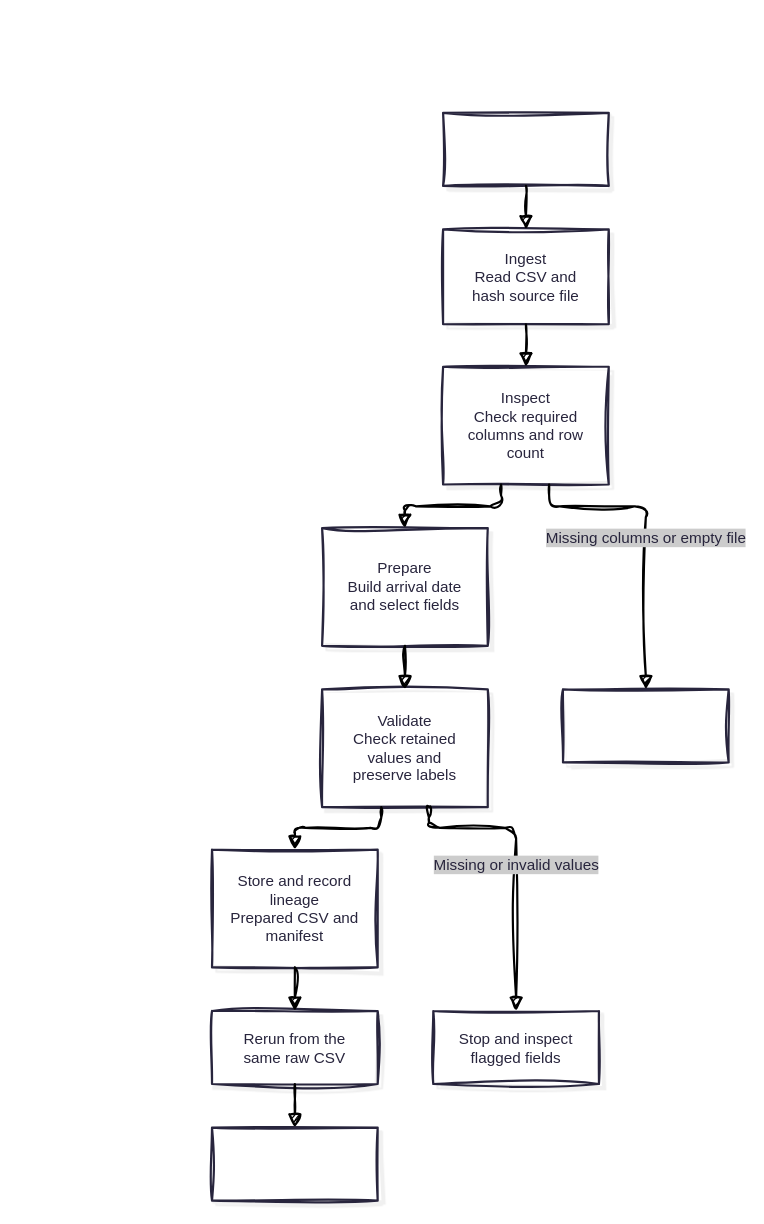
The diagram is 764 pixels wide and 1224 high, and some of its shapes have lost their labels. Each missing label, with the centre of its shape:
Compare output checksums: the point at 296,1166
Hotel Booking Demand CSV: the point at 527,151
Stop and check source file: the point at 647,727
